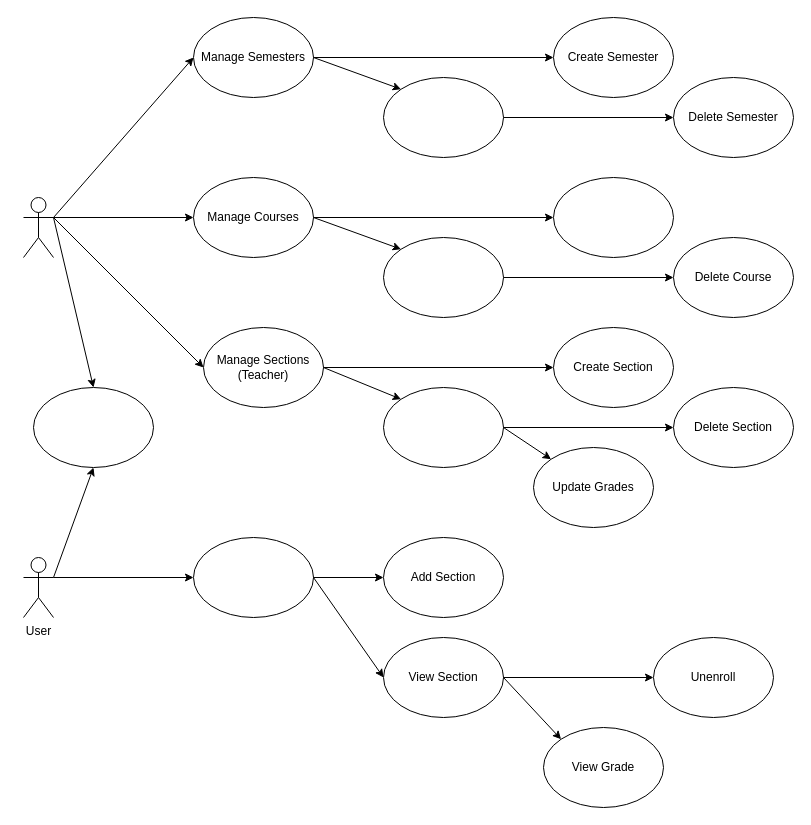
The diagram is 811 pixels wide and 825 high, and some of its shapes have lost their labels. Each missing label, with the centre of its shape:
"Authentication" belongs at (93,427).
"Create Course" belongs at (613,217).
"Manage Sections (Student)" belongs at (253,577).
"Teacher" belongs at (38,227).
"View Course" belongs at (443,277).
"View Section (Teacher)" belongs at (443,427).
"View Semester" belongs at (443,117).
